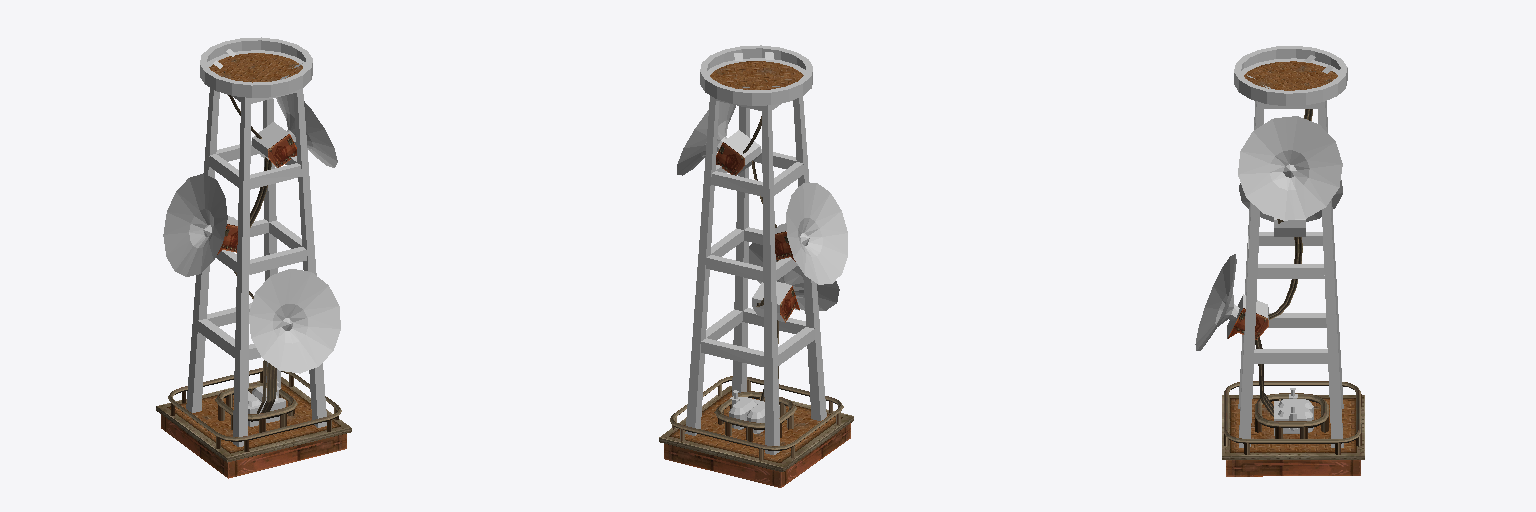
3 renders of one model, left to right at view 1: azimuth 30°, elevation 25°; view 2: azimuth 150°, elevation 25°; view 3: azimuth 270°, elevation 25°, orthographic.
Visible parts, largest first — view 1: Node 0, Node 10, Node 9, Node 5, Node 2, Node 4, Node 1, Node 3; view 2: Node 9, Node 0, Node 10, Node 2, Node 4, Node 5, Node 1; view 3: Node 9, Node 0, Node 2, Node 10, Node 5, Node 1, Node 4.
Boxes of the visible parts, <box> form: Node 0: <box>156,368,351,478</box>; Node 10: <box>186,88,306,446</box>; Node 9: <box>207,88,337,427</box>; Node 5: <box>249,269,340,373</box>; Node 2: <box>200,37,312,97</box>; Node 4: <box>163,173,237,276</box>; Node 1: <box>248,381,285,426</box>; Node 3: <box>257,360,276,413</box>; Node 9: <box>677,96,805,435</box>; Node 0: <box>659,376,853,487</box>; Node 10: <box>706,96,826,454</box>; Node 2: <box>700,45,812,105</box>; Node 4: <box>775,183,847,284</box>; Node 5: <box>749,243,839,322</box>; Node 1: <box>729,390,779,433</box>; Node 9: <box>1238,101,1343,447</box>; Node 0: <box>1222,381,1364,476</box>; Node 2: <box>1234,46,1347,105</box>; Node 10: <box>1238,101,1343,408</box>; Node 5: <box>1195,254,1268,350</box>; Node 1: <box>1274,388,1313,435</box>; Node 4: <box>1239,180,1342,236</box>.
Size of the model in its own units: 10.02 by 24.85 by 10.07.
Materials: 16 (2 with a texture image).